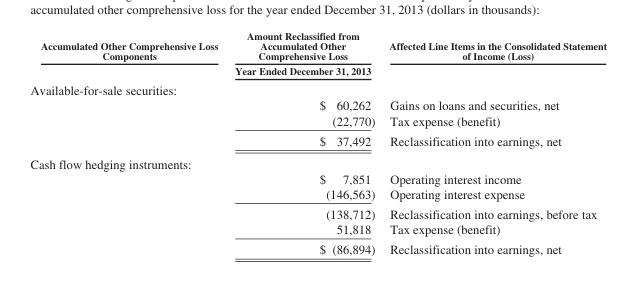table: (29, 29, 606, 256)
table column: (381, 29, 606, 256), (29, 29, 225, 256), (225, 29, 381, 256)
table column header: (29, 29, 606, 79)
table projected row header: (29, 151, 606, 170), (29, 79, 606, 97)
table row: (29, 29, 606, 79), (29, 130, 606, 151), (29, 151, 606, 170), (29, 79, 606, 97), (29, 112, 606, 130), (29, 185, 606, 203), (29, 203, 606, 221), (29, 238, 606, 256), (29, 221, 606, 238), (29, 97, 606, 112), (29, 170, 606, 185)
